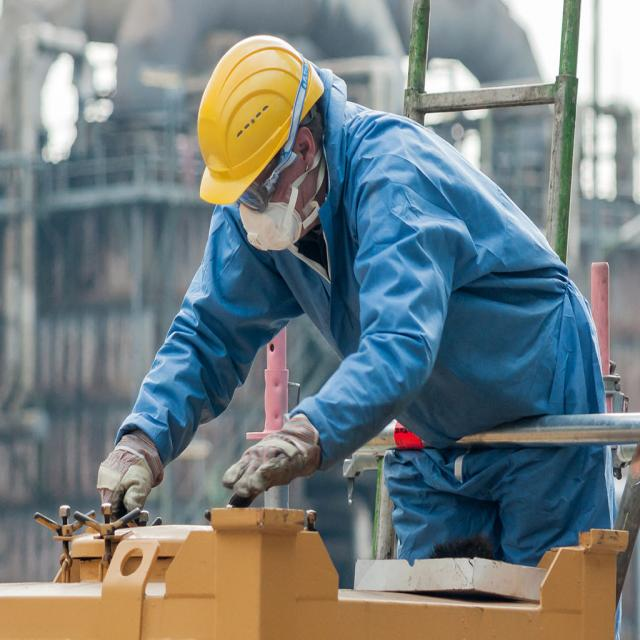gloves: (218, 411, 322, 518), (92, 430, 163, 530)
helmet: (195, 33, 327, 208)
